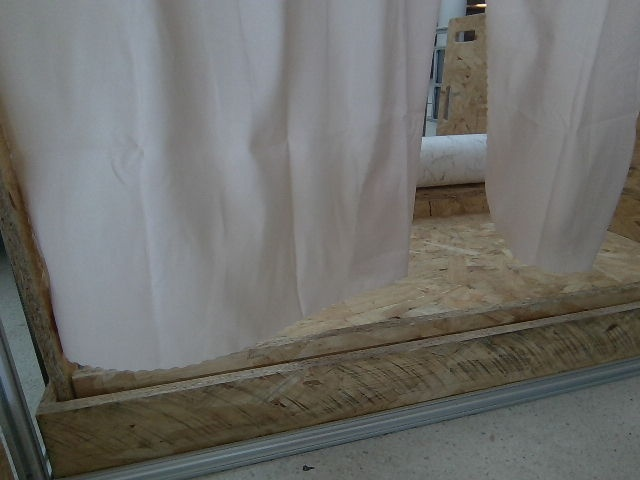curtain: (0, 0, 640, 398)
